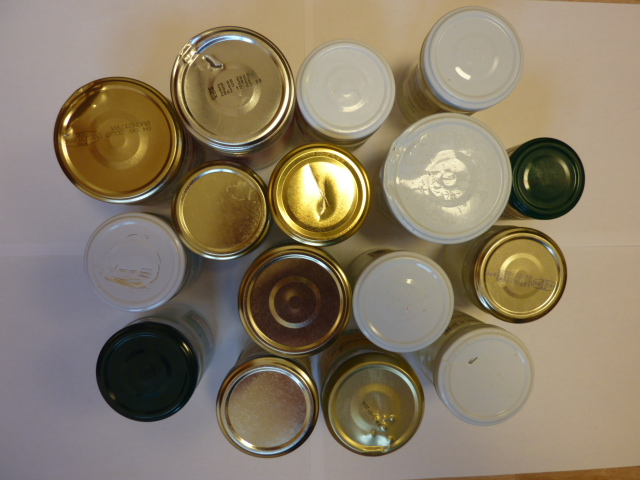damaged: (384, 116, 511, 242), (326, 361, 423, 455)
intact: (240, 250, 351, 358), (96, 323, 196, 423)
